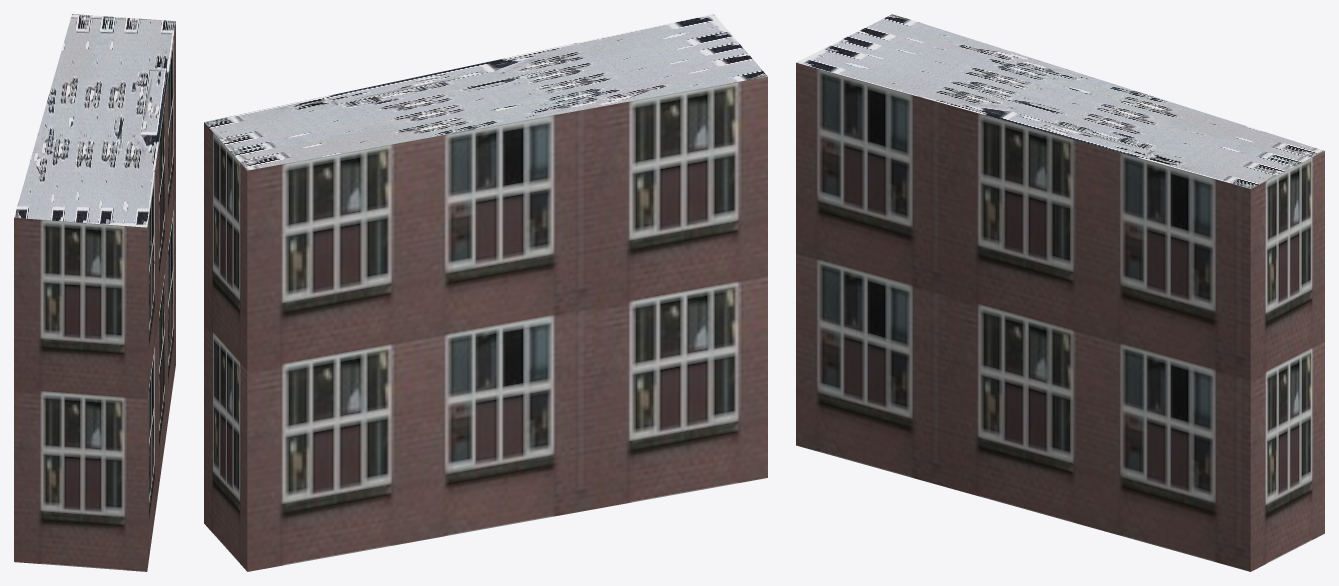
The model's file is ResTex__3237.fbx.
3 views of the same model, side by side, from view 1: azimuth 30°, elevation 25°; view 2: azimuth 150°, elevation 25°; view 3: azimuth 270°, elevation 25° (orthographic). The views are drawn at different scales.
Parts seen in each view (by area): view 1: CityEngineMaterial_12_m, CityEngineMaterial_4_m; view 2: CityEngineMaterial_12_m, CityEngineMaterial_4_m; view 3: CityEngineMaterial_12_m, CityEngineMaterial_4_m.
Part boxes in pixels (x1,y1,x2,y2): CityEngineMaterial_12_m: (14, 22, 175, 571); CityEngineMaterial_4_m: (14, 14, 175, 227); CityEngineMaterial_12_m: (204, 76, 767, 571); CityEngineMaterial_4_m: (204, 14, 767, 170); CityEngineMaterial_12_m: (796, 62, 1324, 571); CityEngineMaterial_4_m: (796, 14, 1324, 188).
Size of the model in its own units: 5.89 by 6 by 7.51.
Materials: 2 (2 with a texture image).
